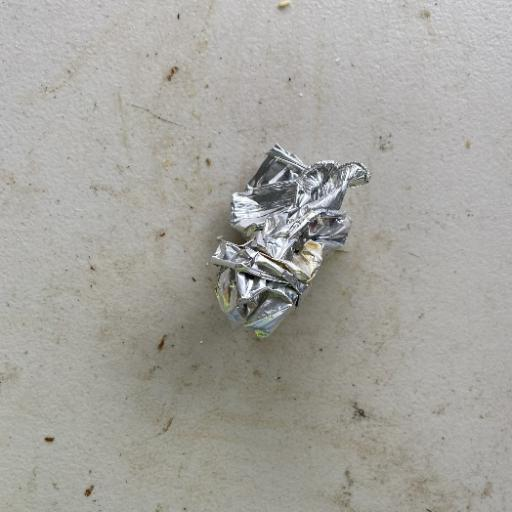Metal: (208, 142, 371, 341)
